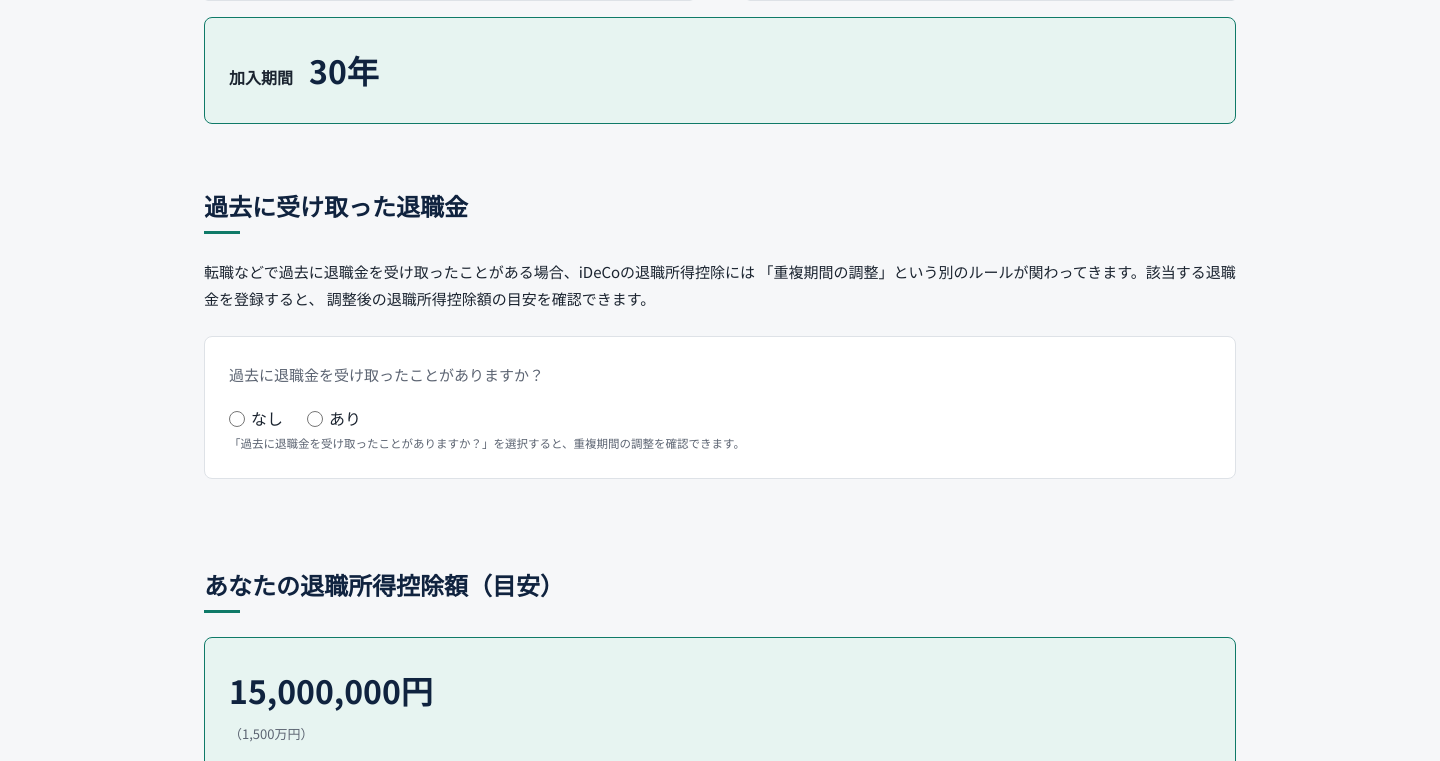
過去に退職金を受け取ったことがありますか：あり/なし › 「あり」を選択すると退職金1件目の入力欄（年齢・金額・勤続期間）が表示される
(page scrolled)
Click the radio button labelled "あり".
click(315, 419)  # box [307, 411, 323, 427]
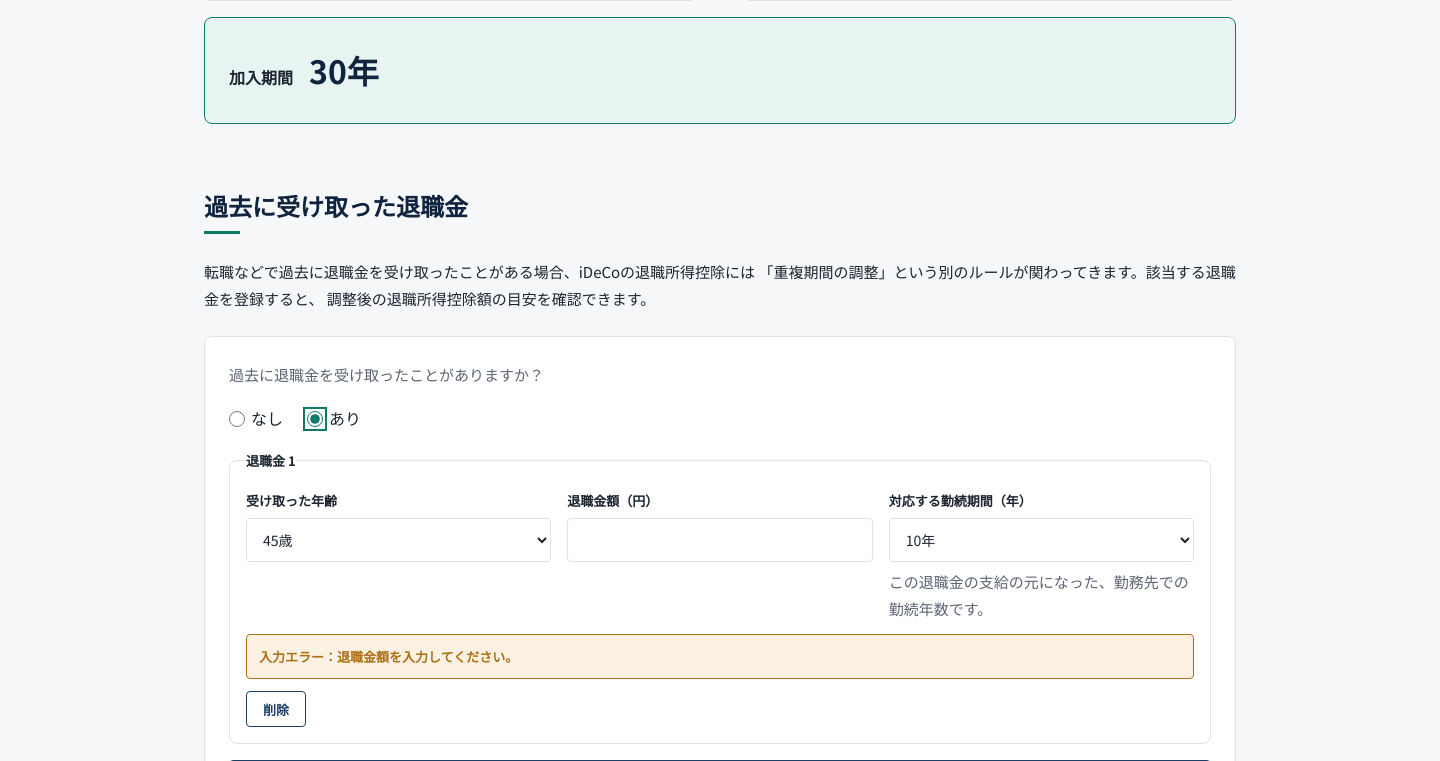
Expected: the field labelled "退職金額（円）" is shown, [567, 518, 873, 562]
Now the dropdown labelled "受け取った年齢" is shown, box [246, 518, 551, 562]
Now the dropdown labelled "対応する勤続期間（年）" is shown, box [889, 518, 1194, 562]
